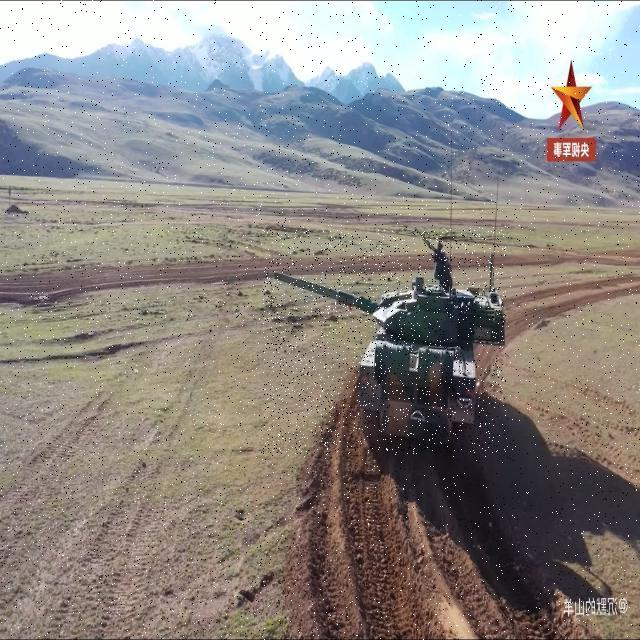MIL_MBT: (263, 230, 506, 454)
